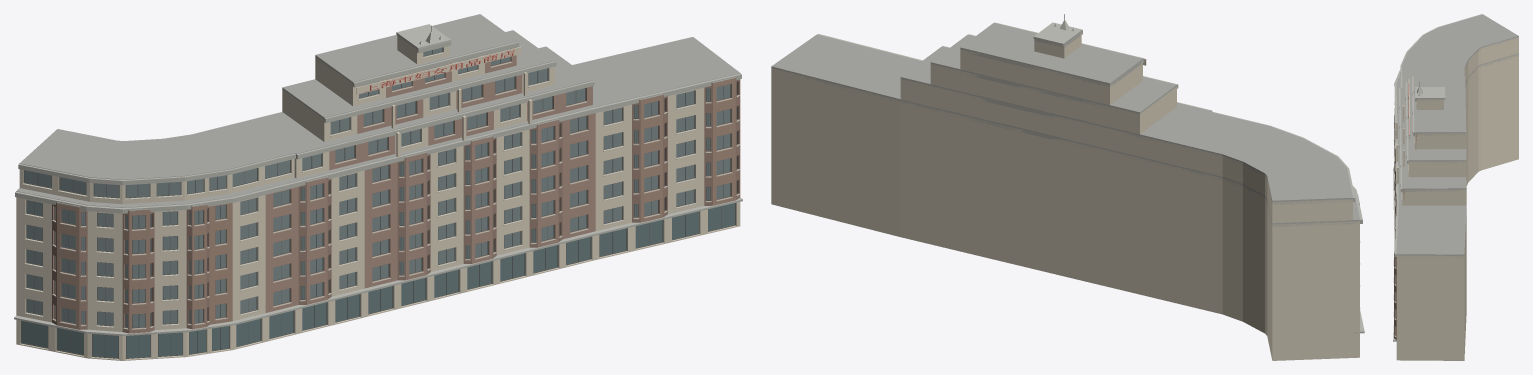
File: huangpu-bearn-apartments-lod.glb
3 views of the same model, side by side, from view 1: azimuth 30°, elevation 25°; view 2: azimuth 150°, elevation 25°; view 3: azimuth 270°, elevation 25° (orthographic). The views are drawn at different scales.
Parts seen in each view (by area): view 1: 培文公寓（淮海中路街面与重庆南路圆角）; view 2: 培文公寓（淮海中路街面与重庆南路圆角）; view 3: 培文公寓（淮海中路街面与重庆南路圆角）.
Part boxes in pixels (x1,y1,x2,y2): 培文公寓（淮海中路街面与重庆南路圆角）: (14,14,742,360); 培文公寓（淮海中路街面与重庆南路圆角）: (771,14,1364,360); 培文公寓（淮海中路街面与重庆南路圆角）: (1393,14,1518,360).
Bounding box in the file's own units: 91.77 × 34.02 × 21.54.
